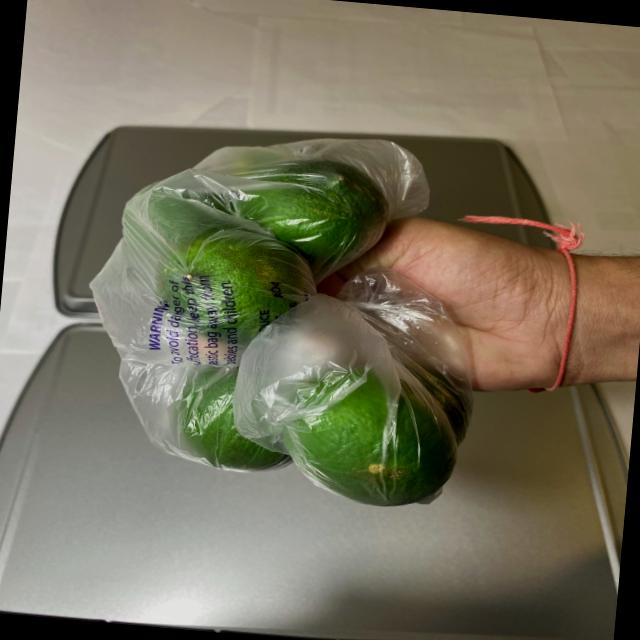lemon: (96, 139, 498, 517)
